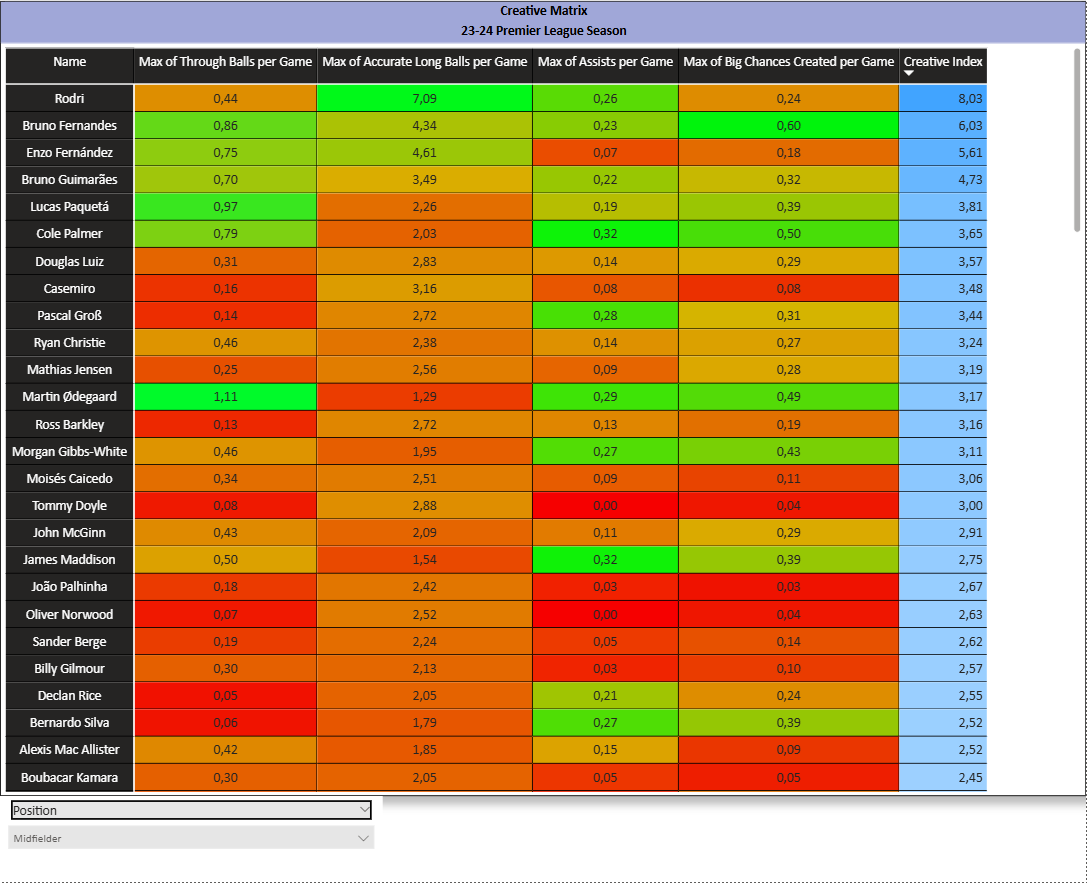

The page's visual inventory and layout, read from the dashboard file:
{"tool":"powerbi","page":{"name":"Page 7","canvas":[1280,720],"ordinal":6},"visuals":[{"type":"pivotTable","title":"Creative Matrix","fields":{"Rows":["pl_23_24.Name"],"Values":["Sum(pl_23_24.Through Balls per Game)","Sum(pl_23_24.Accurate Long Balls per Game)","Sum(pl_23_24.Assists per Game)","Sum(pl_23_24.Big Chances Created per Game)"]},"box":[79.8,11.7,1094.2,708.1],"z":0}]}

Visuals, with their boxes on the page's 1280x720 design canvas (x1, y1, x2, y2). These are canvas units, not pixel positions in the 1087x883 screenshot, which may show the page scaled, cropped or inside an application window:
"Creative Matrix" pivotTable: bbox=[80, 12, 1174, 720]
